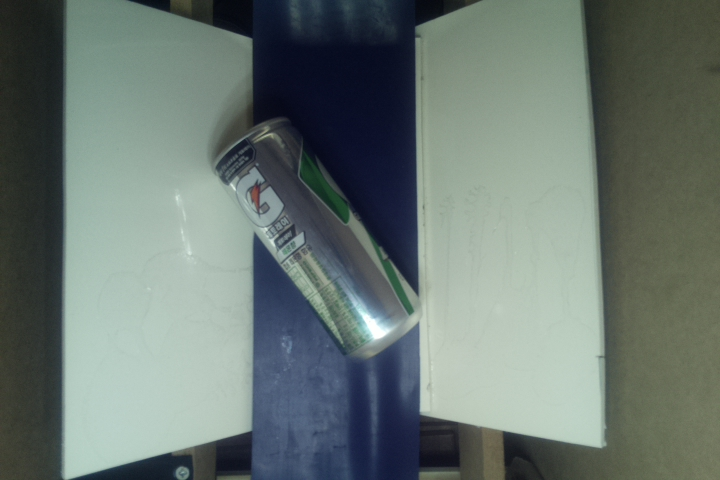can: (210, 112, 426, 365)
